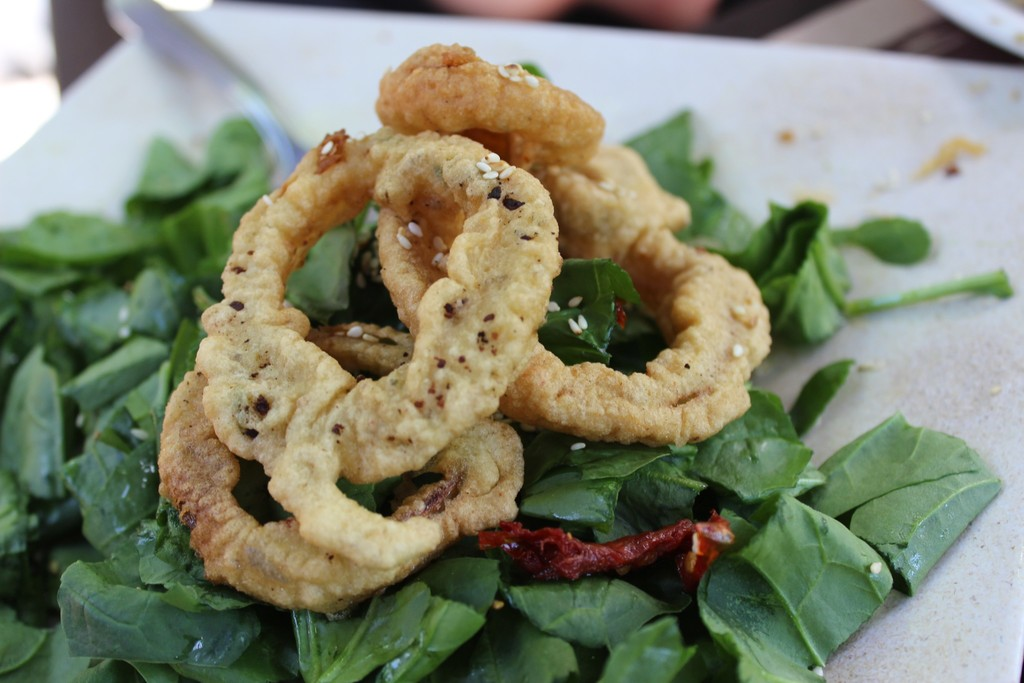person: (401, 0, 736, 37)
